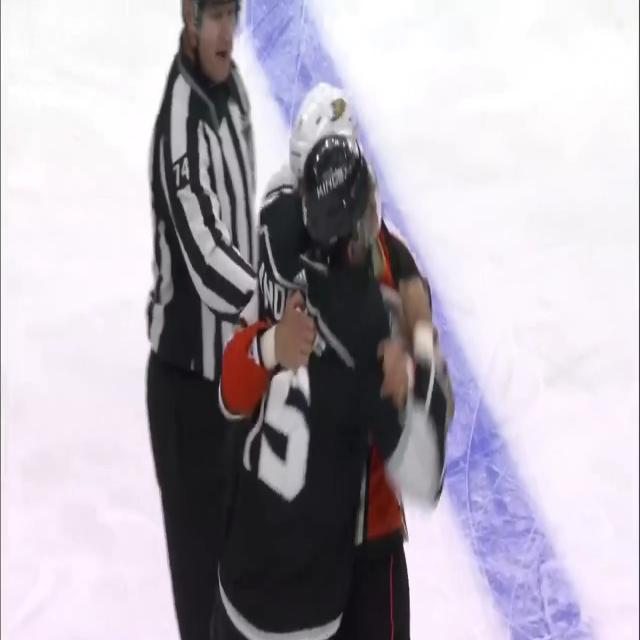fight: (232, 36, 449, 640)
